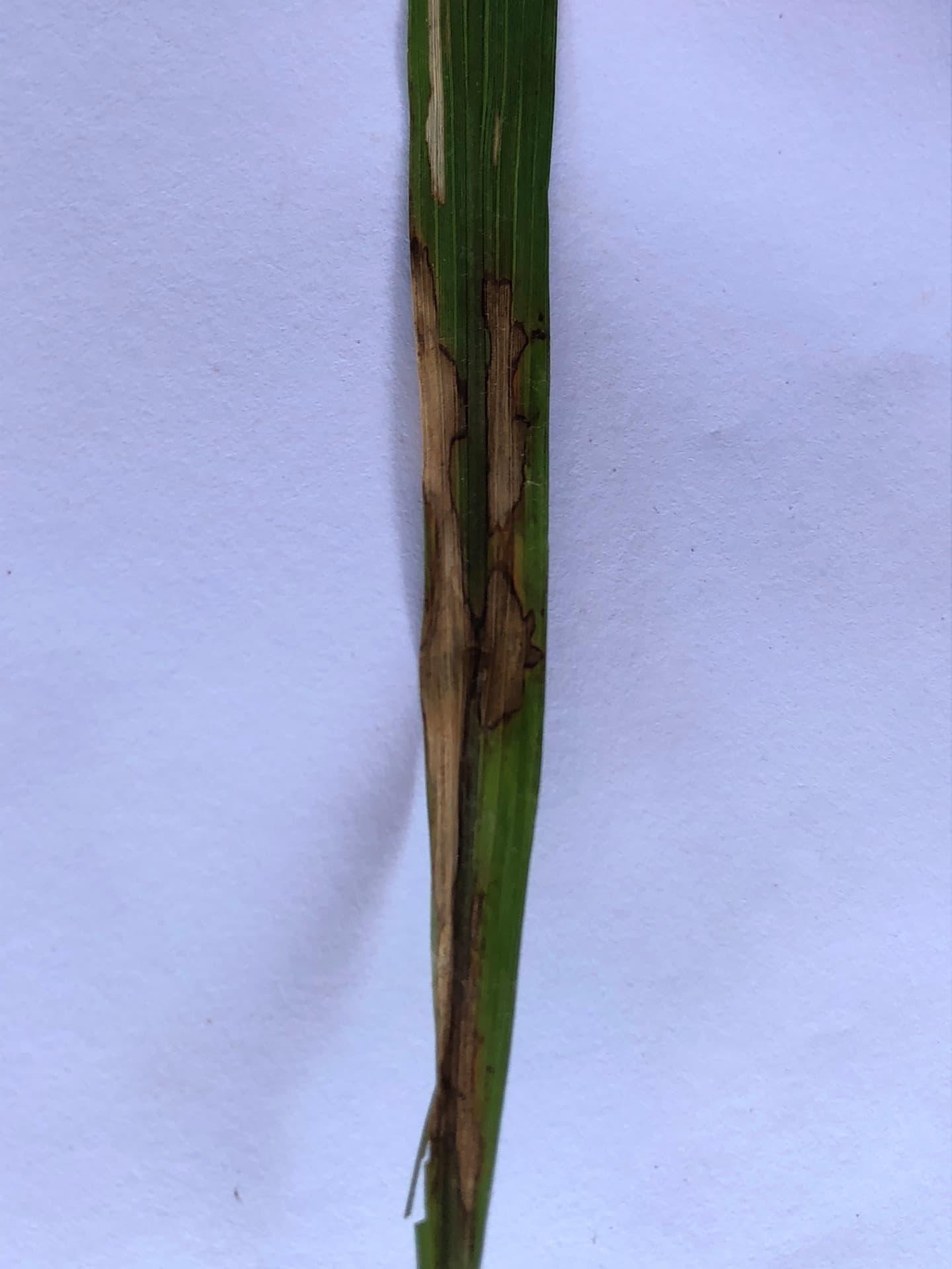Leaf Blight: (415, 241, 543, 1217), (426, 0, 446, 205)
